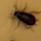cockroach: (12, 10, 37, 27)
